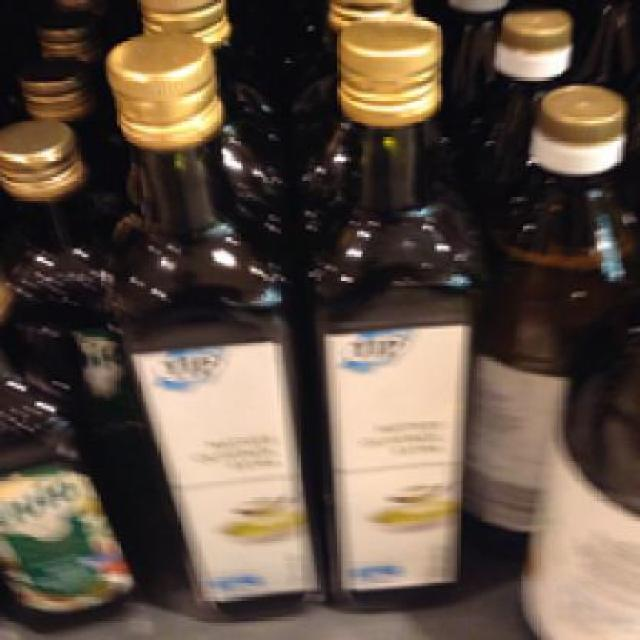Oil: (88, 29, 324, 608), (294, 14, 470, 606)
